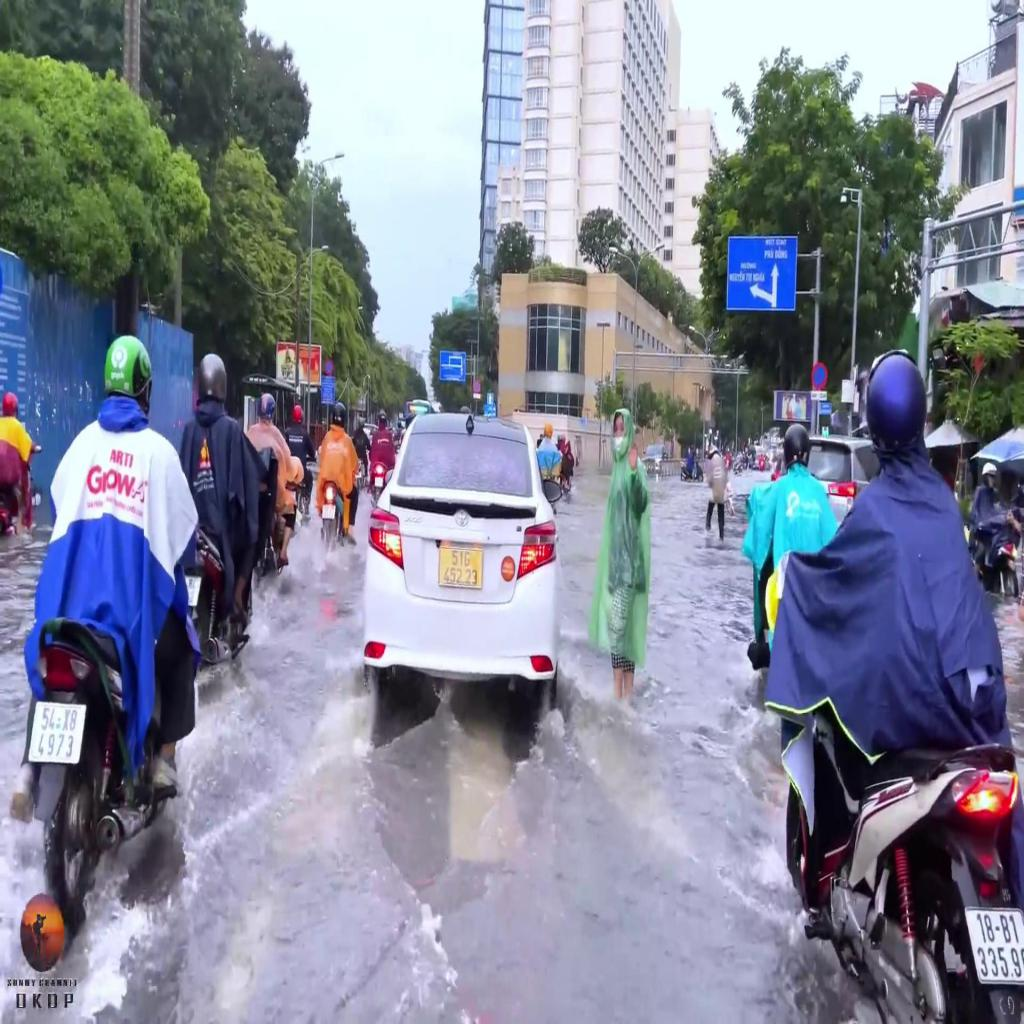cam_do_xe: (812, 363, 828, 390), (473, 380, 481, 393), (325, 360, 332, 374)
duong_mot_chieu: (487, 394, 493, 405)
